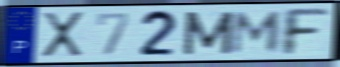2: (137, 7, 181, 60)
7: (94, 11, 131, 57)
F: (281, 7, 332, 58)
M: (181, 10, 237, 57), (228, 10, 285, 55)
X: (41, 10, 86, 60)
